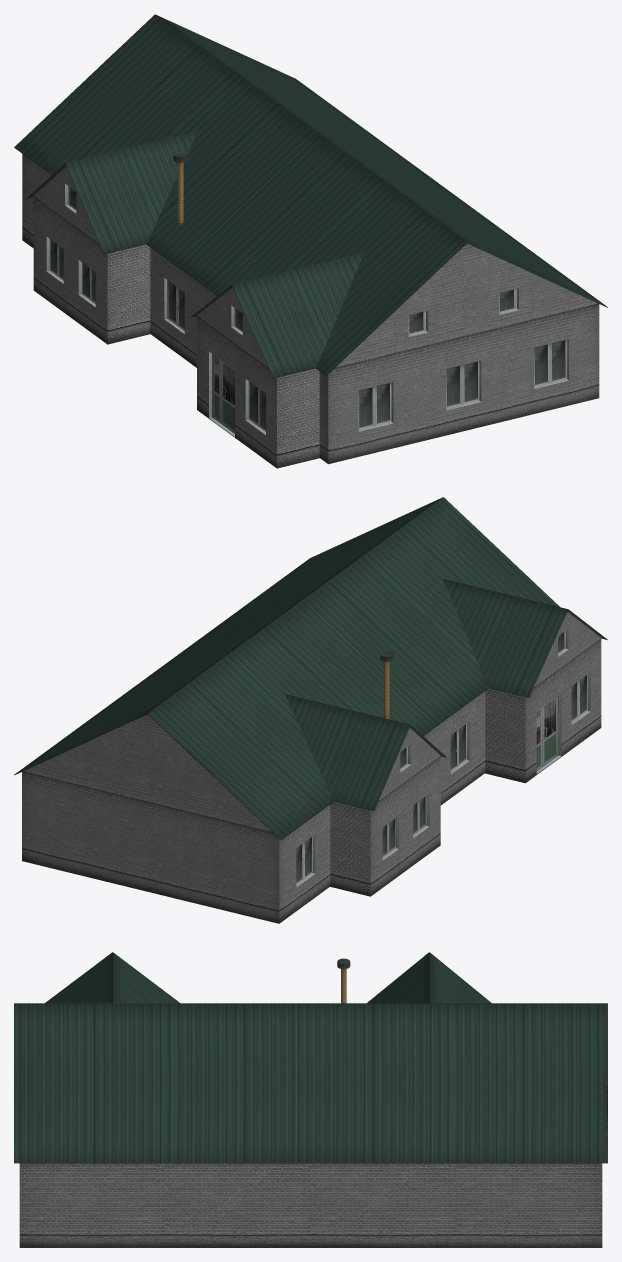
Rendered from Dhz_zsfz_07_1.FBX.
The picture shows the model from 3 angles, top to bottom: view 1: azimuth 30°, elevation 25°; view 2: azimuth 150°, elevation 25°; view 3: azimuth 270°, elevation 25°; orthographic projection. The views are drawn at different scales.
Visible parts, largest first — view 1: Dhz_zsfz_07_1; view 2: Dhz_zsfz_07_1; view 3: Dhz_zsfz_07_1.
Part boxes in pixels (box(x1,y1,x2,y2)): Dhz_zsfz_07_1: box(14, 14, 607, 468); Dhz_zsfz_07_1: box(14, 497, 607, 923); Dhz_zsfz_07_1: box(14, 952, 607, 1247).
Size of the model in its own units: 10.73 by 6.03 by 17.87.
Materials: 1 (1 with a texture image).
